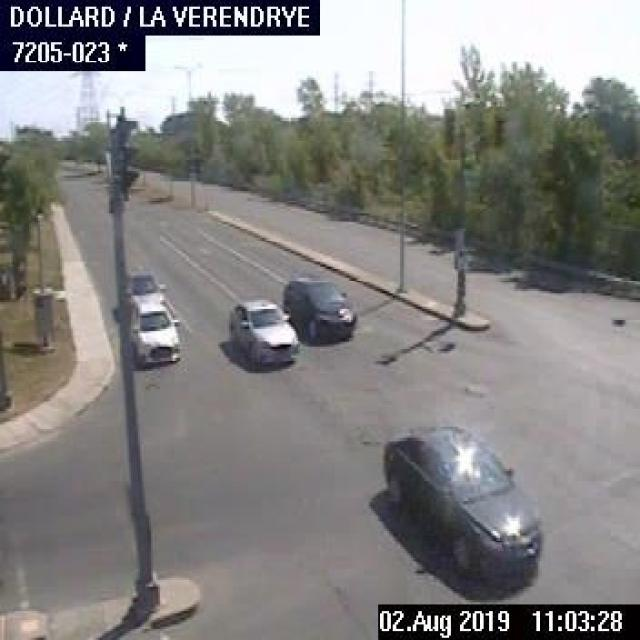vehicle: (376, 420, 544, 580), (280, 272, 354, 344), (224, 299, 296, 371), (127, 295, 180, 369), (124, 272, 174, 310)
